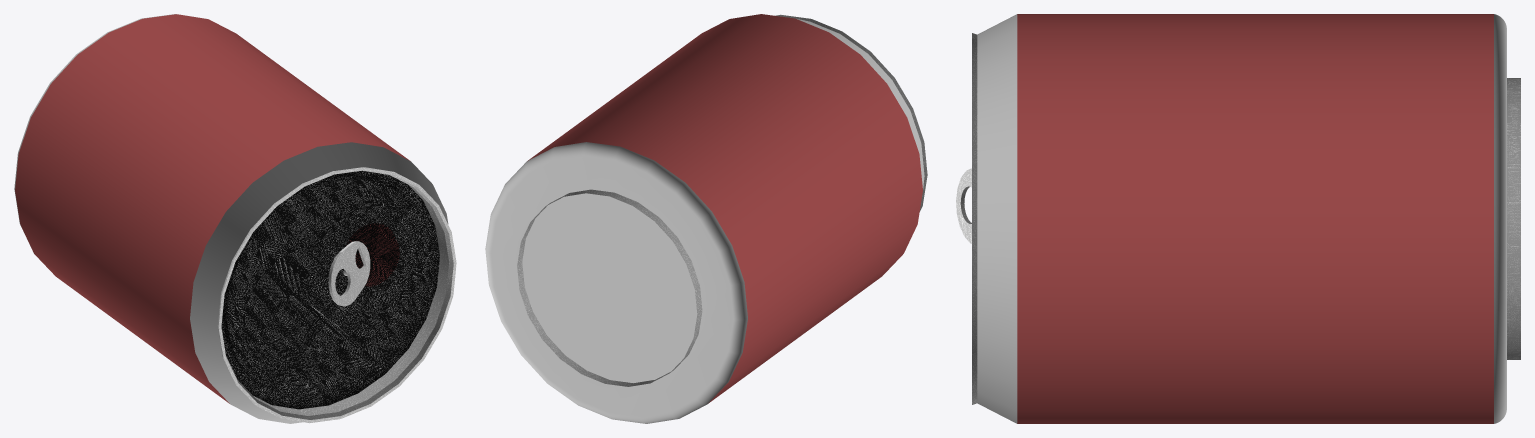
Rendered from model_align.obj.
3 views of the same model, side by side, from view 1: azimuth 30°, elevation 25°; view 2: azimuth 150°, elevation 25°; view 3: azimuth 270°, elevation 25° (orthographic). The views are drawn at different scales.
Visible parts, largest first — view 1: mesh1_mesh1-geometry, mesh2_mesh2-geometry; view 2: mesh1_mesh1-geometry; view 3: mesh1_mesh1-geometry, mesh2_mesh2-geometry.
Boxes of the visible parts, <box> form: mesh1_mesh1-geometry: <box>14,14,456,423</box>; mesh2_mesh2-geometry: <box>328,241,370,306</box>; mesh1_mesh1-geometry: <box>485,14,927,423</box>; mesh1_mesh1-geometry: <box>972,14,1520,423</box>; mesh2_mesh2-geometry: <box>956,168,971,243</box>.
Bounding box in the file's own units: 0.0889 × 0.0889 × 0.1217.
